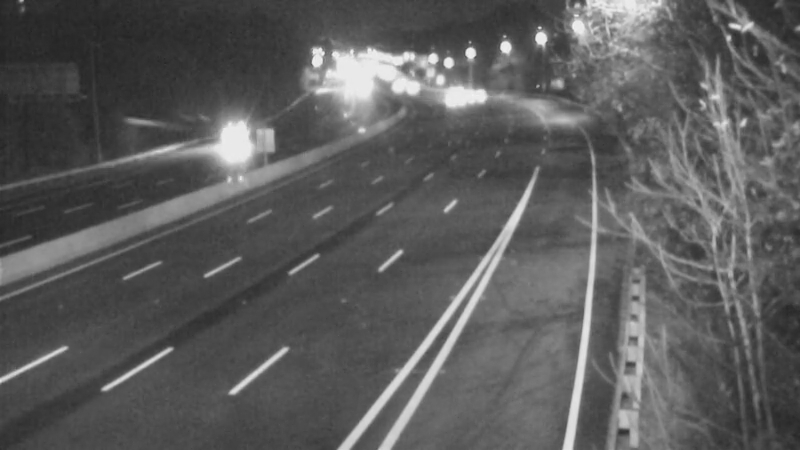vehicle: (450, 70, 500, 120), (424, 72, 474, 122), (227, 116, 277, 166)
